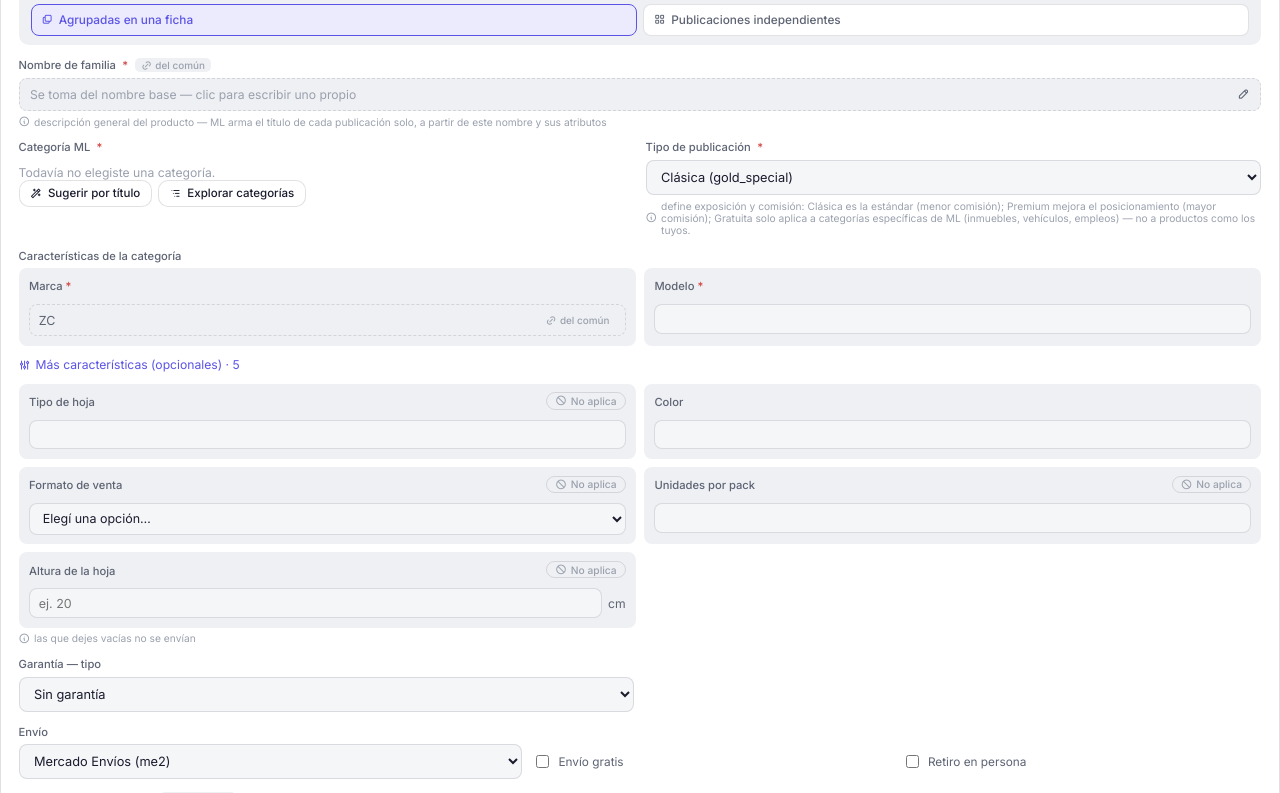
CrearProductoComponent › atributos ML: "No aplica" › DOM: el chip aparece solo donde ML lo acepta y al marcarlo reemplaza el campo por "No aplica"
(page scrolled)
Click the checkbox labelled "No aplica" in the row of "Tipo de hoja".
click(586, 401)  # box x1=546 y1=392 x2=626 y2=410
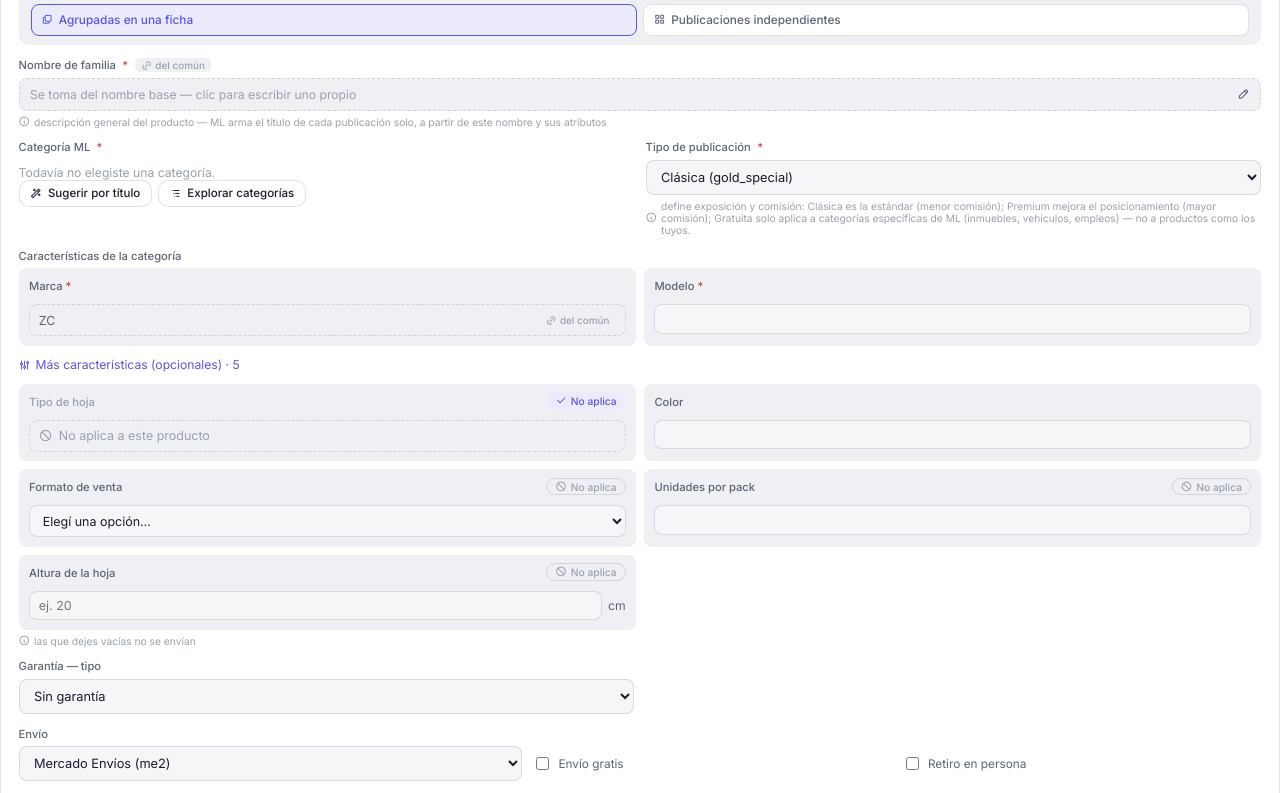
Expected: the element with class "na-box" shows "No aplica", x1=59 y1=428 x2=210 y2=443
Desmarcar vuelve a mostrar el campo editable.
Click the checkbox labelled "No aplica" in the row of "Tipo de hoja".
click(586, 401)  # box x1=546 y1=392 x2=626 y2=410
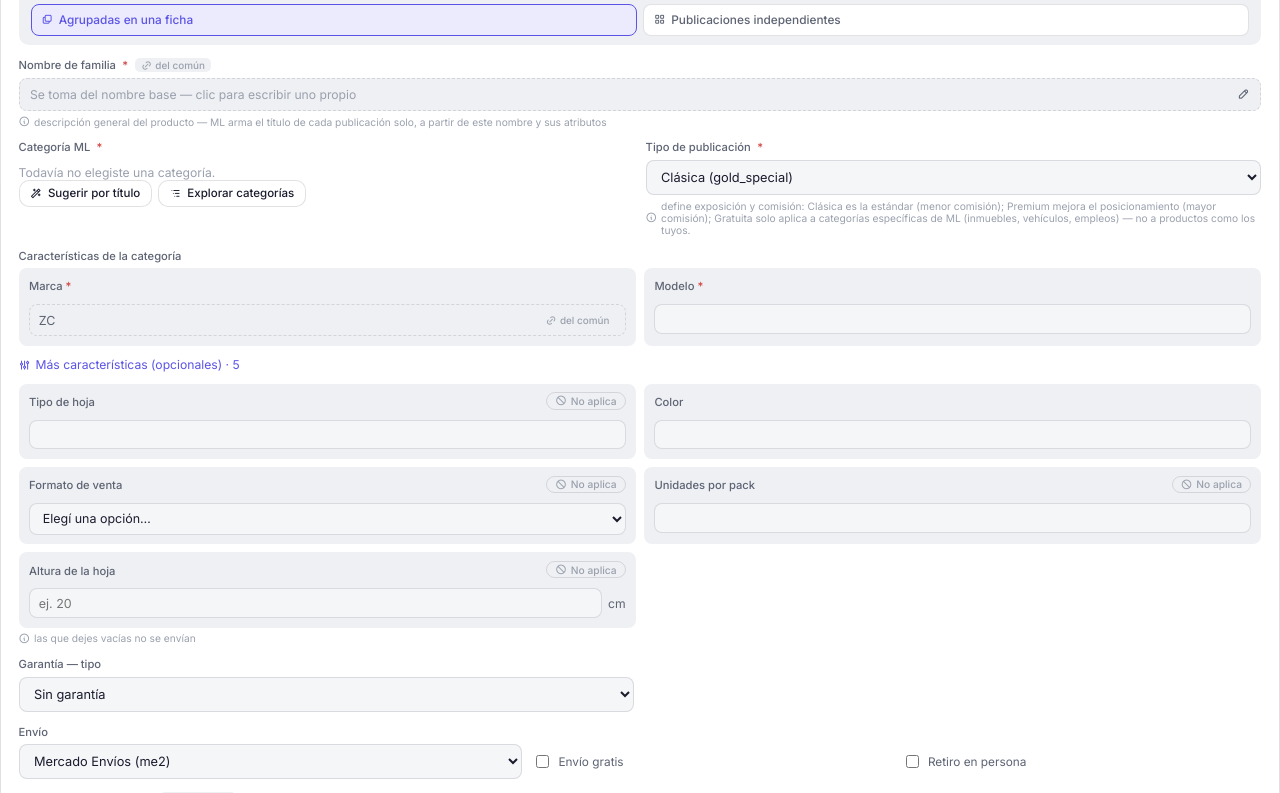
Expected: the field with class "attr-input" below "Tipo de hoja" is shown, x1=29 y1=420 x2=626 y2=449
